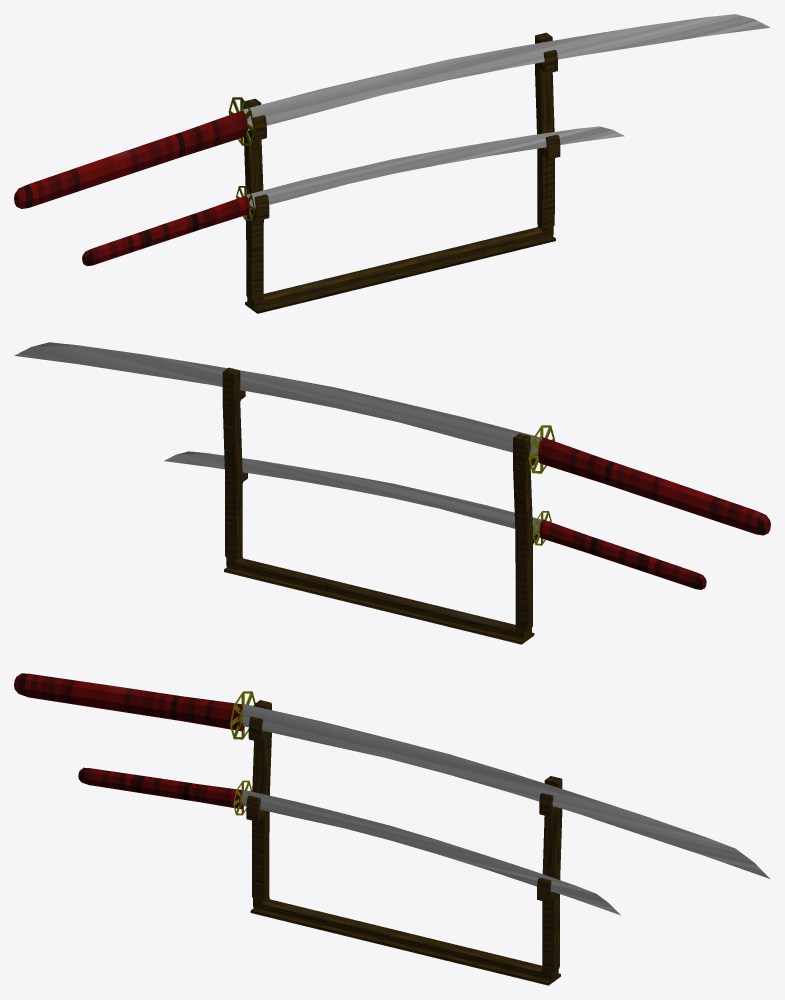
File: Sword.fbx
3 views of the same model, one above another, from view 1: azimuth 30°, elevation 25°; view 2: azimuth 150°, elevation 25°; view 3: azimuth 330°, elevation 25° (orthographic).
Visible parts, largest first — view 1: pCube36; view 2: pCube36; view 3: pCube36.
Part boxes in pixels (x1=…): pCube36: x1=14, y1=14, x2=770, y2=313; pCube36: x1=14, y1=342, x2=770, y2=644; pCube36: x1=14, y1=673, x2=769, y2=985.
Bounding box in the file's own units: 542 × 148 × 33.23.
1 material, 1 textured.
